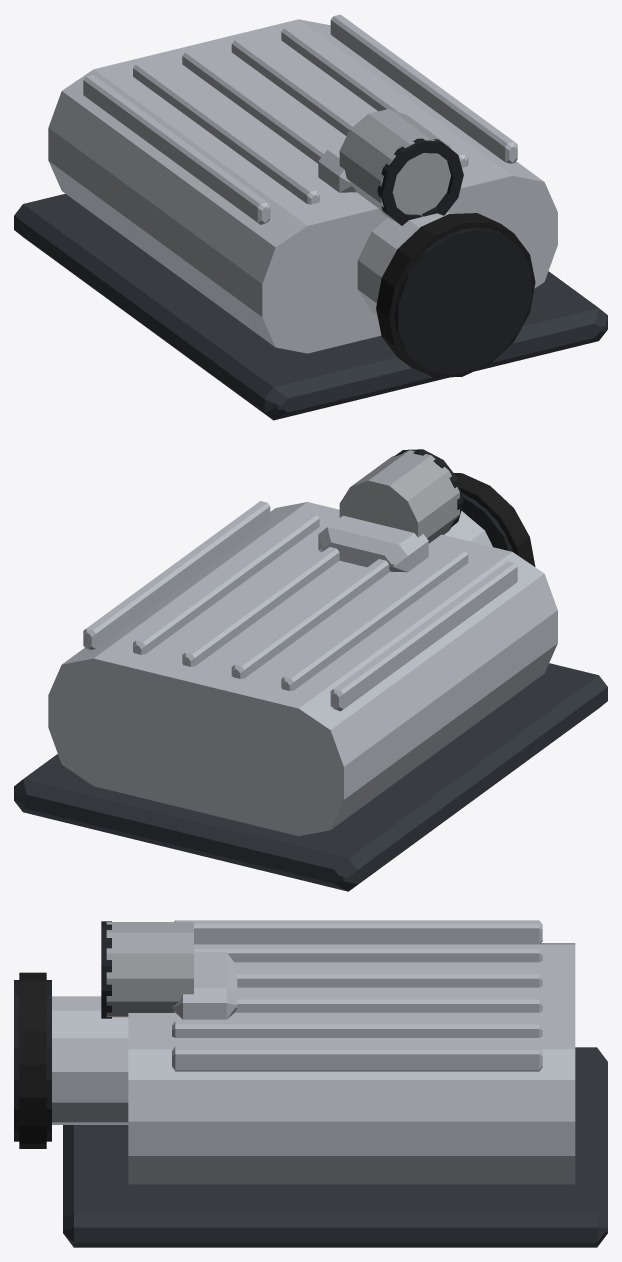
Rendered from brute_500.glb.
3 renders of one model, top to bottom at view 1: azimuth 30°, elevation 25°; view 2: azimuth 150°, elevation 25°; view 3: azimuth 270°, elevation 25°, orthographic. The views are drawn at different scales.
Visible parts, largest first — view 1: model; view 2: model; view 3: model.
Part boxes in pixels (x1,y1,x2,y2): model: [14, 14, 607, 420]; model: [14, 449, 607, 891]; model: [14, 920, 607, 1247].
Bounding box in the file's own units: 0.38 × 0.242 × 0.545.
3 materials, 1 textured.
